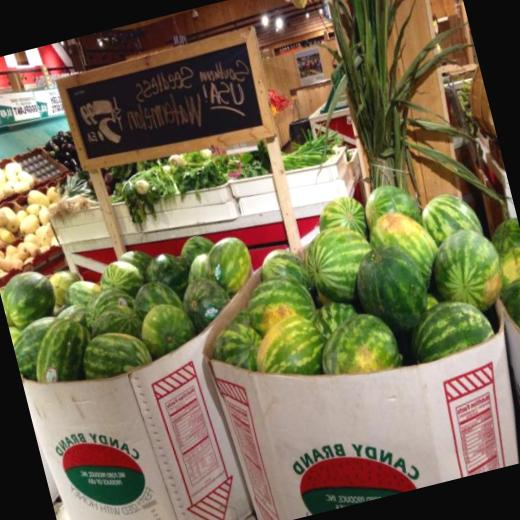Cherry: (183, 156, 520, 419), (0, 221, 270, 402)
